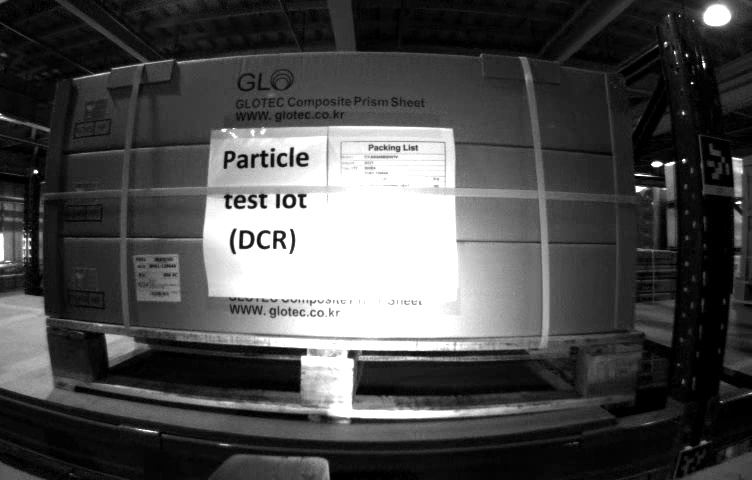True Barcode: (127, 250, 184, 301)
